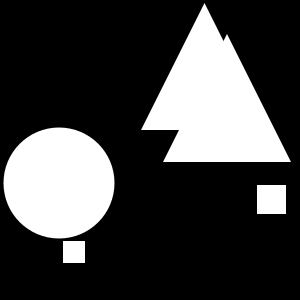circle: (257, 185, 286, 214), (63, 241, 85, 263)
rectangle: (3, 128, 114, 238)
triangle: (163, 34, 291, 162), (141, 3, 268, 130)
